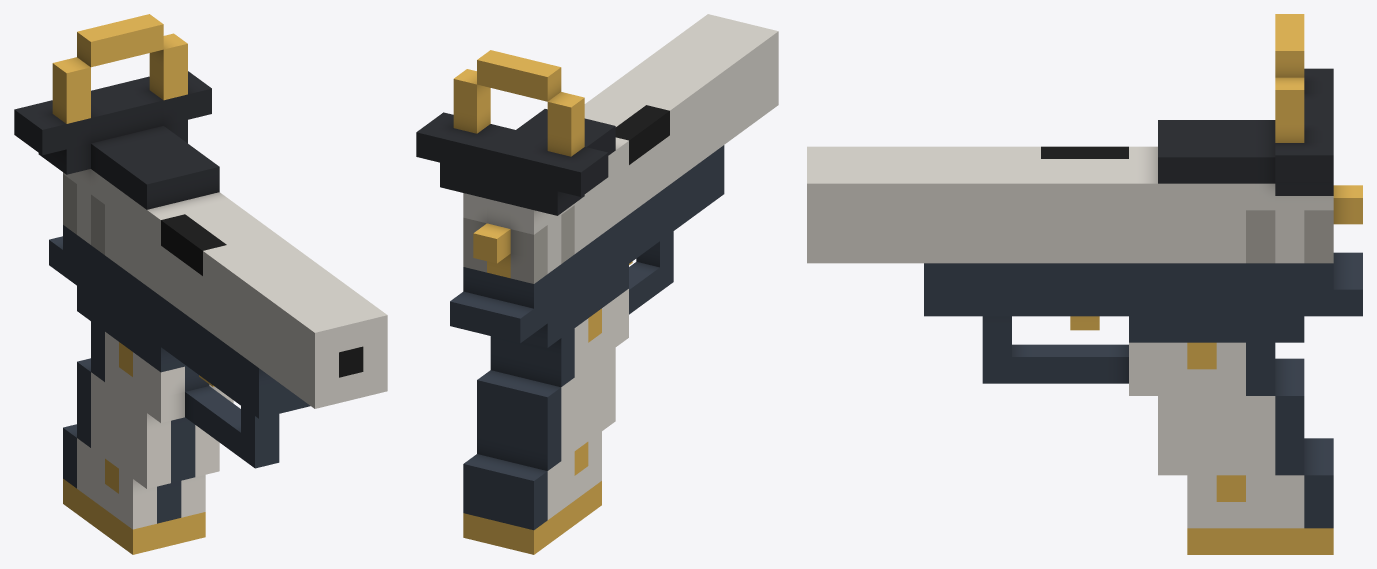
Rendered from pistol.glb.
3 renders of one model, left to right at view 1: azimuth 30°, elevation 25°; view 2: azimuth 150°, elevation 25°; view 3: azimuth 270°, elevation 25°, orthographic. The views are drawn at different scales.
Parts seen in each view (by area): view 1: pistol_body; view 2: pistol_body; view 3: pistol_body.
Part boxes in pixels (left/top/right/bottom): pistol_body: left=14, top=14, right=387, bottom=554; pistol_body: left=416, top=14, right=778, bottom=554; pistol_body: left=807, top=14, right=1362, bottom=554.
Size of the model in its own units: 0.2734 by 0.7422 by 0.7422.
Materials: 1 (1 with a texture image).
